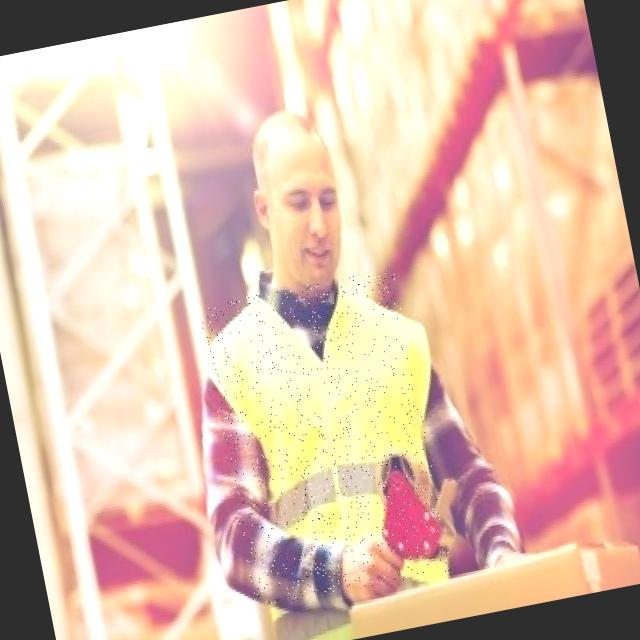vest: (198, 268, 452, 610)
